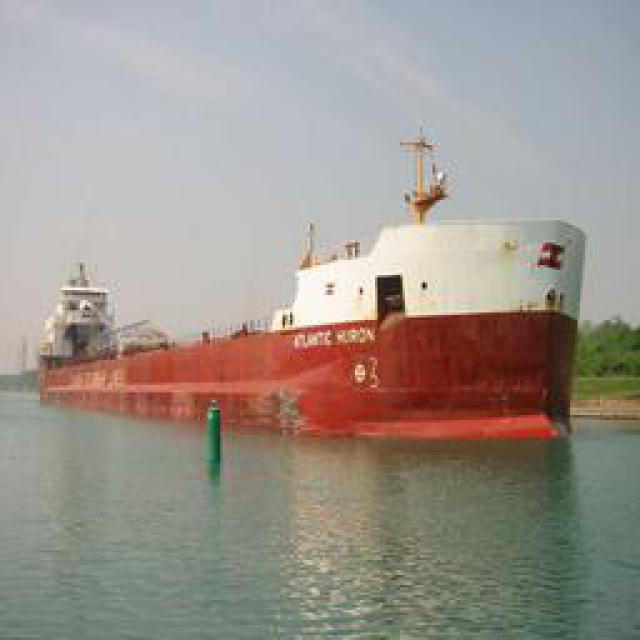Ship: (21, 146, 598, 445)
